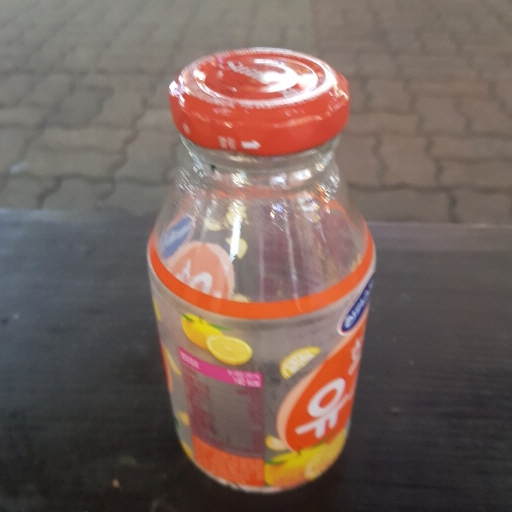Glass_4: (143, 45, 377, 494)
